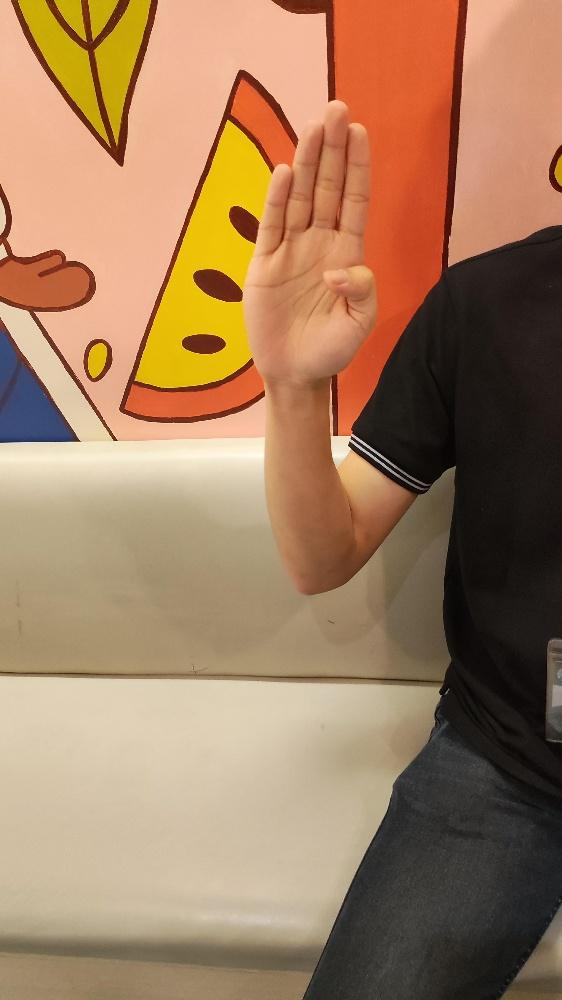b: (244, 97, 379, 386)
